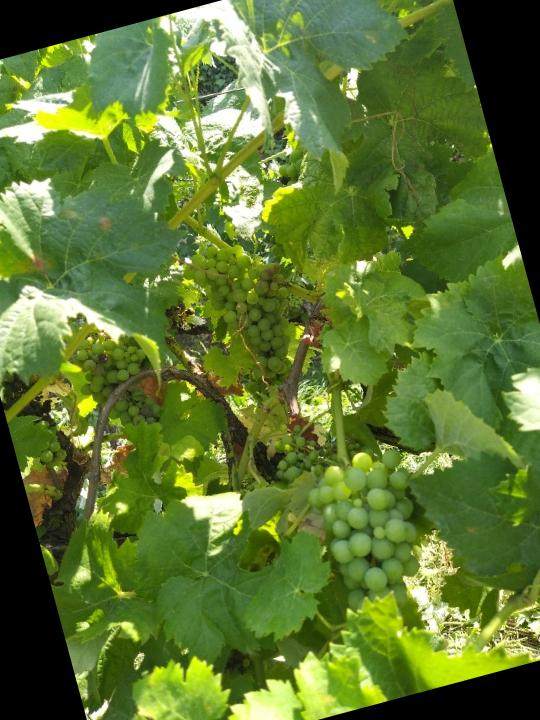grape: (296, 439, 444, 626), (175, 226, 315, 406), (65, 317, 170, 450)
